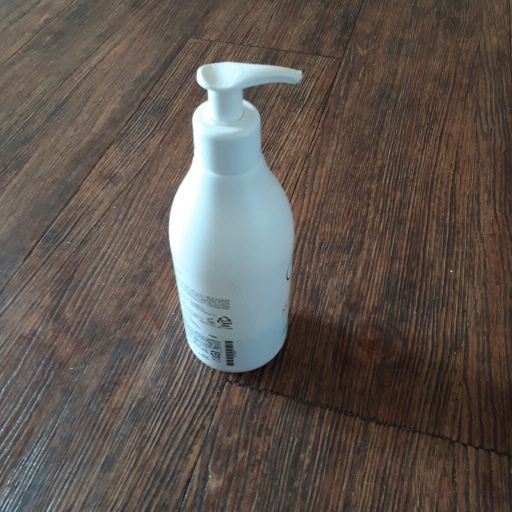Plastic_3: (164, 62, 307, 376)
